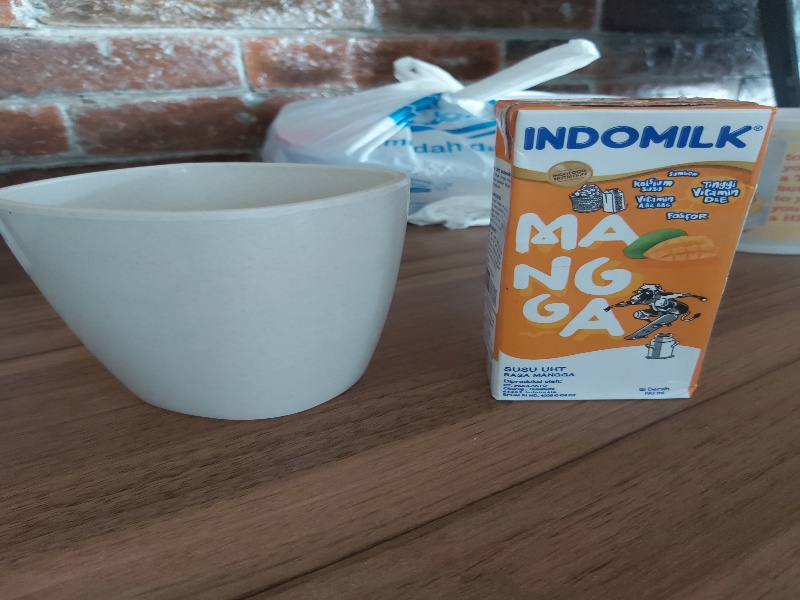mangga: (483, 99, 774, 400)
